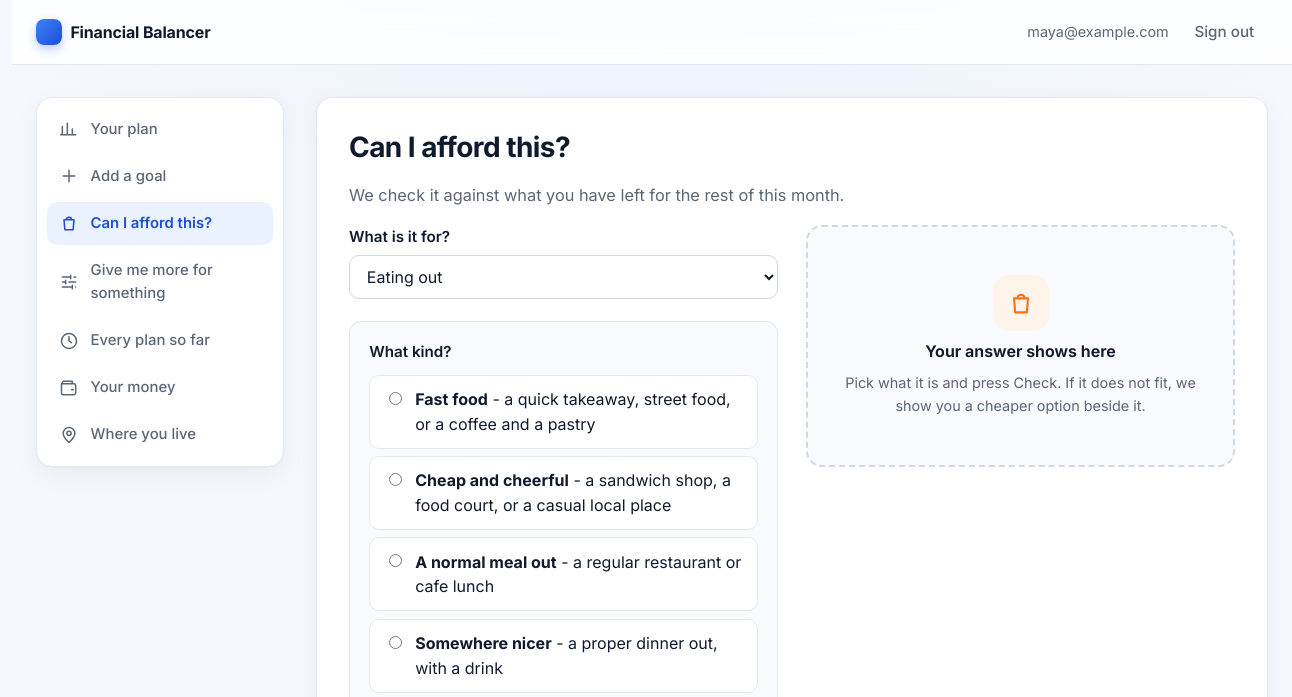
Scenario: can I afford this? › leaves out what was spent when it is left blank, rather than claiming nothing was
Step 1. Click the radio button labelled "Fast food" → (395, 399), box [389,392,402,405]
(page scrolled)
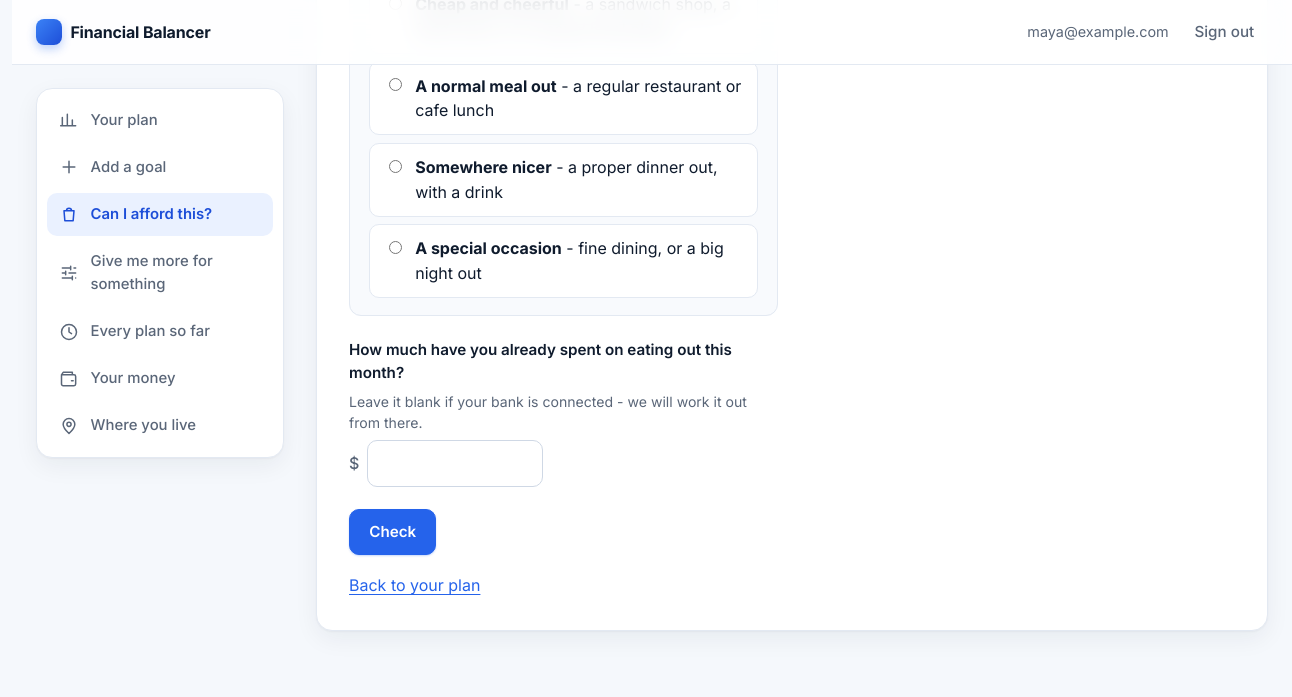
Step 2. Click the button "Check" → (393, 532), box [349,509,436,555]
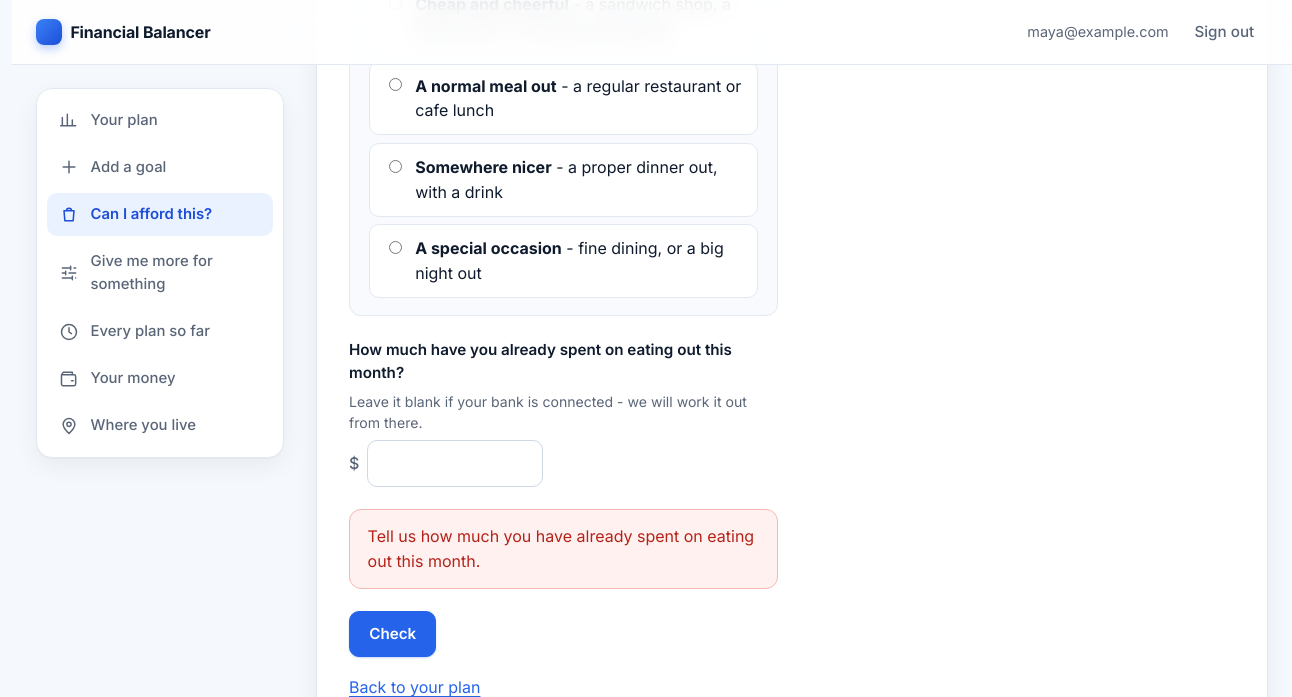
Result: the text "Tell us how much you have already spent on eating out this month." is shown at [368,524,759,574]
